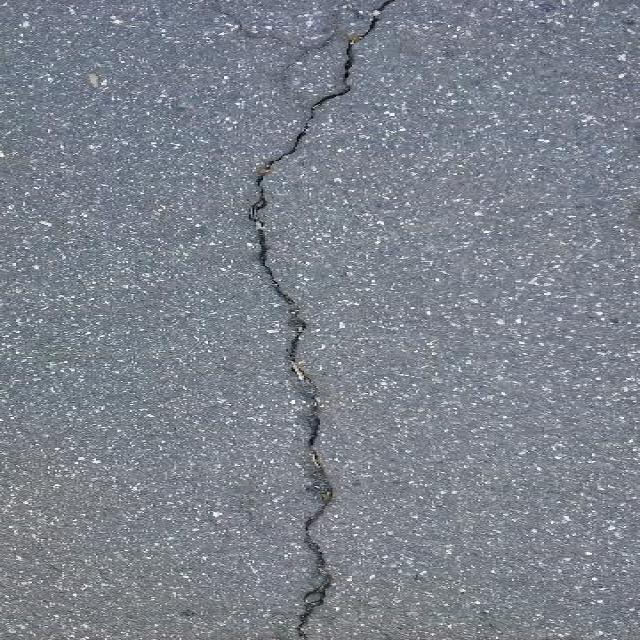moderate crack: (295, 19, 368, 143), (0, 13, 48, 177), (254, 110, 329, 201), (296, 510, 329, 626), (36, 557, 69, 580), (86, 66, 110, 95), (618, 17, 638, 37), (586, 309, 613, 322), (231, 16, 245, 33), (274, 632, 302, 640), (179, 607, 195, 616), (414, 570, 425, 582), (478, 609, 489, 620)
severe crack: (2, 0, 246, 368), (0, 330, 288, 637), (377, 311, 637, 634), (480, 15, 640, 295), (274, 44, 323, 76), (248, 181, 269, 220), (258, 158, 276, 175)
